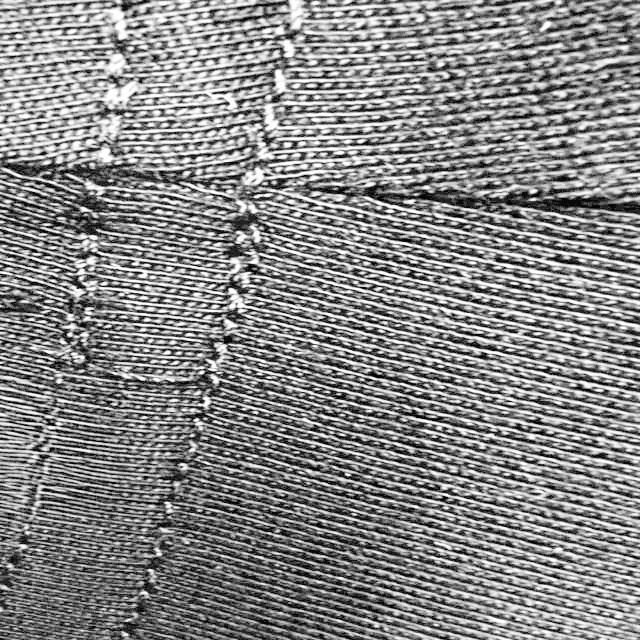Sewing_error: (46, 314, 232, 416)
